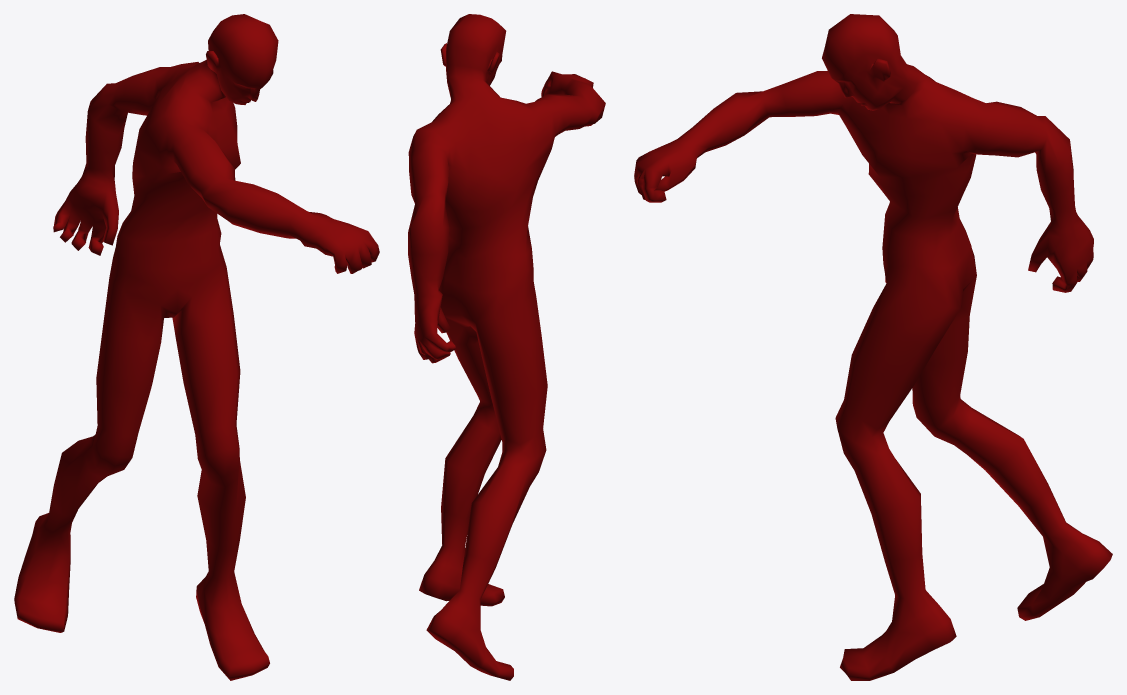
The model's file is attack_5.obj.
3 renders of one model, left to right at view 1: azimuth 30°, elevation 25°; view 2: azimuth 150°, elevation 25°; view 3: azimuth 270°, elevation 25°, orthographic. The views are drawn at different scales.
Parts seen in each view (by area): view 1: Low_Poly_Characte.000_Mesh.001; view 2: Low_Poly_Characte.000_Mesh.001; view 3: Low_Poly_Characte.000_Mesh.001.
Part boxes in pixels (<box>): Low_Poly_Characte.000_Mesh.001: <box>14,14,379,680</box>; Low_Poly_Characte.000_Mesh.001: <box>408,14,605,680</box>; Low_Poly_Characte.000_Mesh.001: <box>634,14,1112,680</box>.
Size of the model in its own units: 0.8056 by 3.03 by 2.
